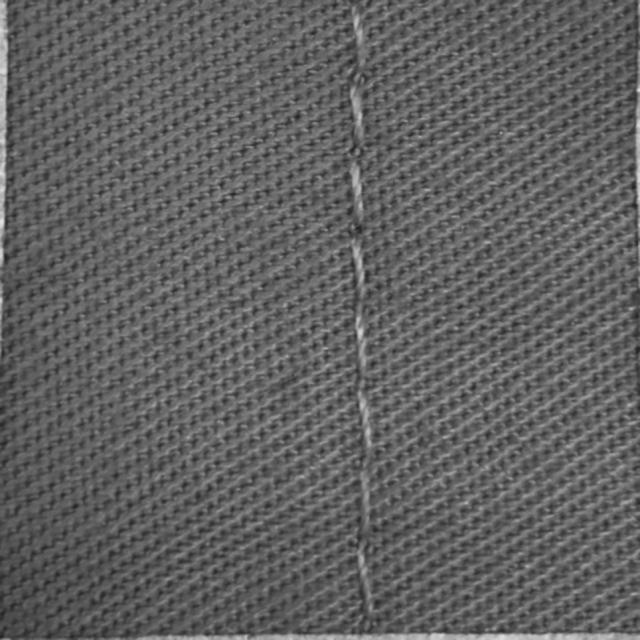stitch: (357, 384, 372, 485), (349, 72, 364, 169), (357, 550, 374, 631), (351, 0, 367, 84), (354, 304, 368, 396), (352, 235, 367, 316), (349, 161, 364, 239), (358, 484, 370, 554)
